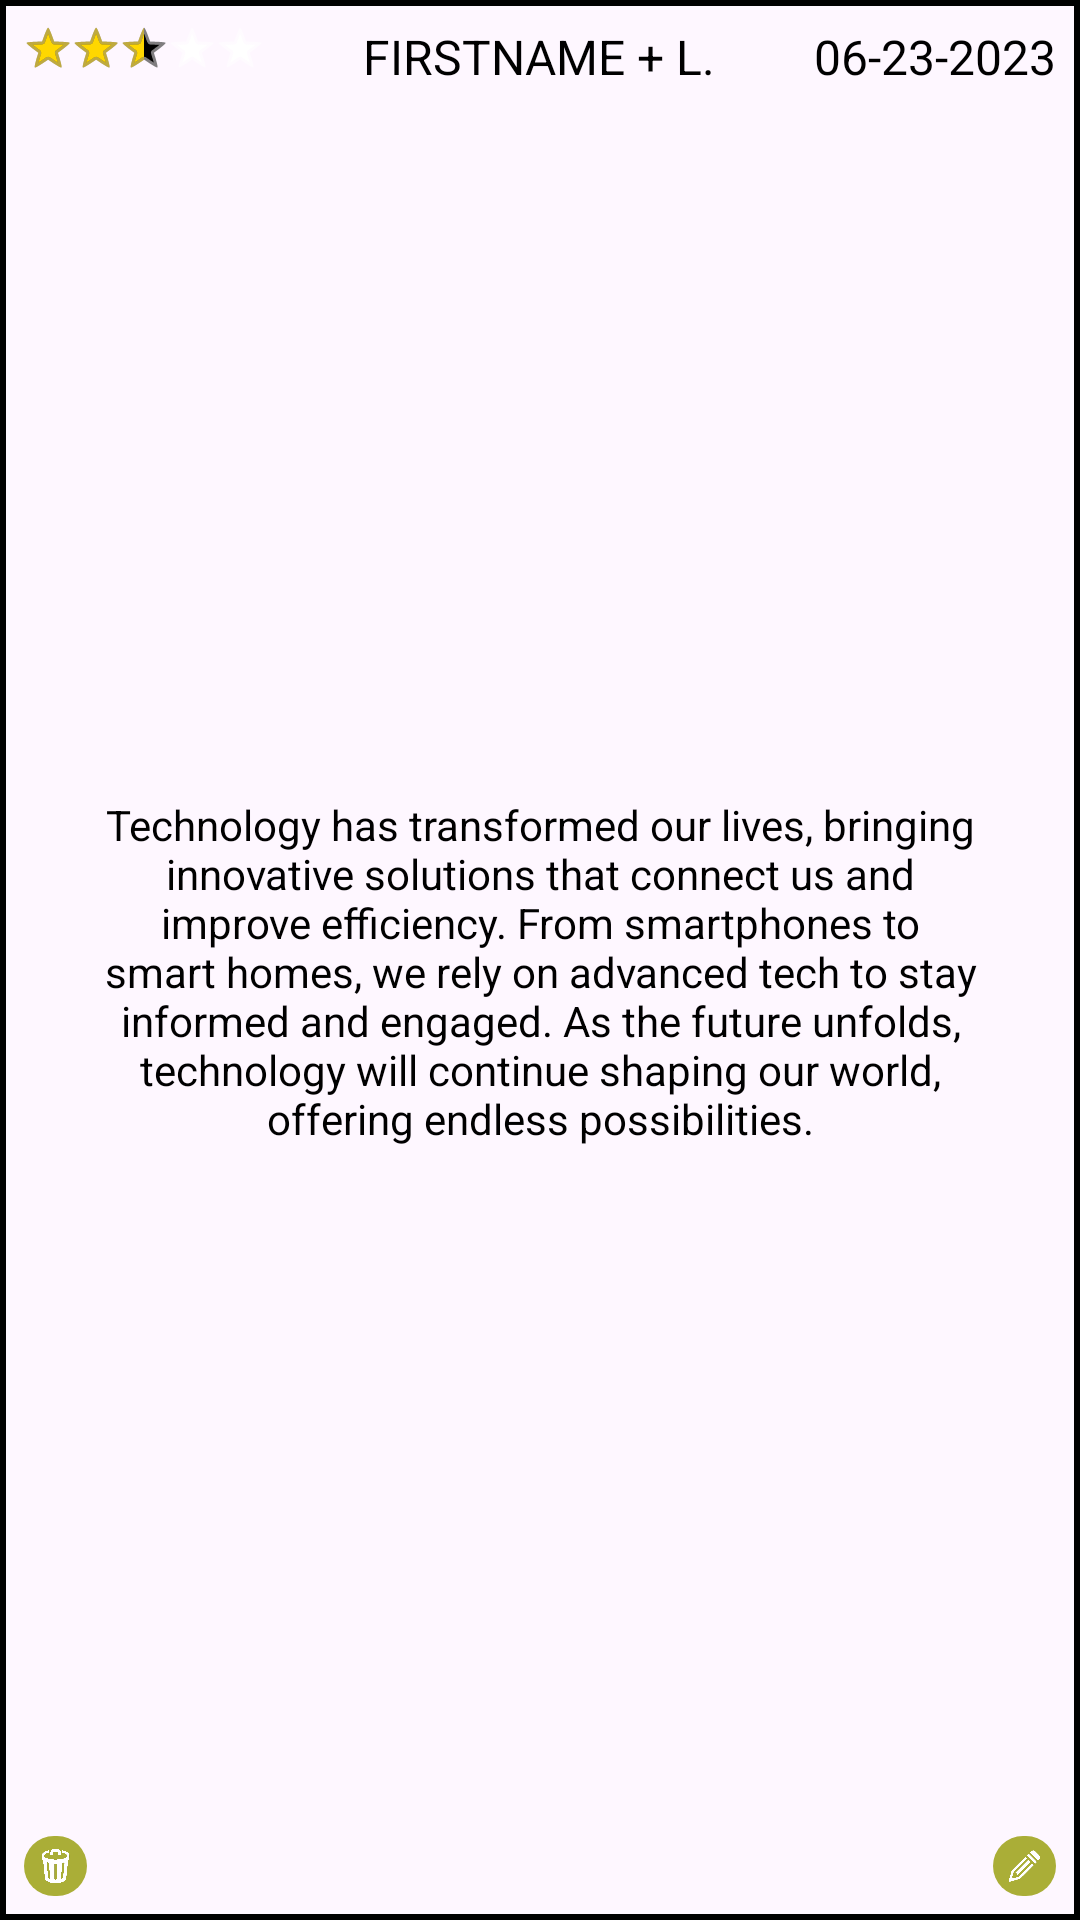

Locate icon controls on the screen. Image size 1080*1920, boxes as [x1=x1, y1=y1, x2=x2, y2=y2].
edit acct: [x1=993, y1=1836, x2=1056, y2=1896]
trash can: [x1=24, y1=1836, x2=87, y2=1896]
